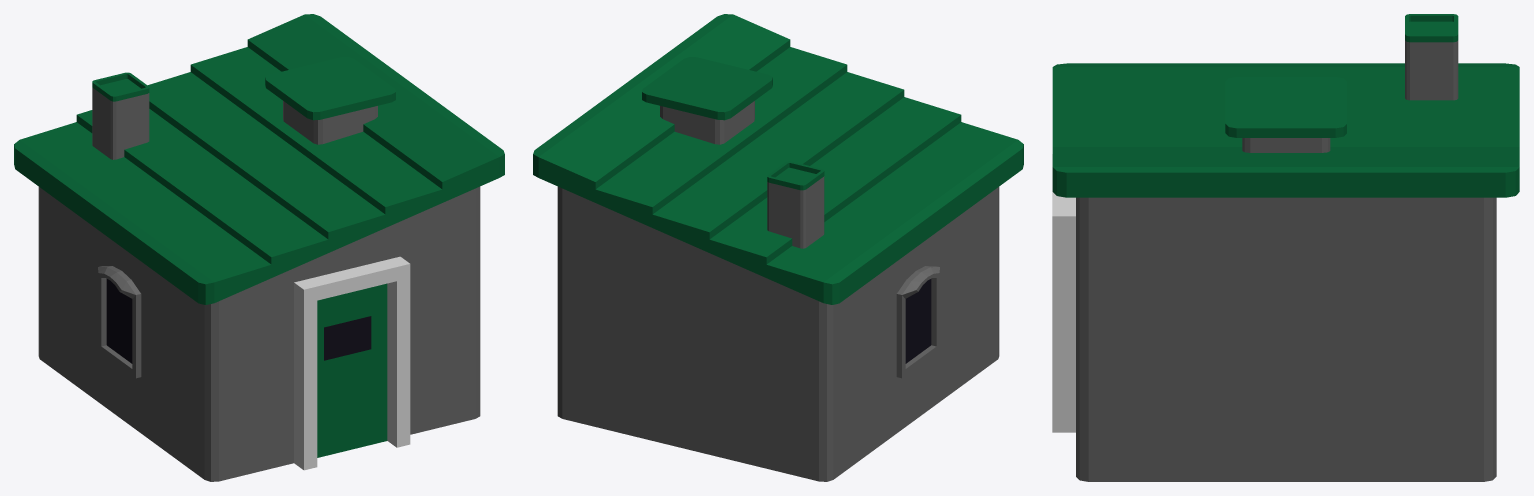
Rendered from Green_House.fbx.
3 renders of one model, left to right at view 1: azimuth 30°, elevation 25°; view 2: azimuth 150°, elevation 25°; view 3: azimuth 270°, elevation 25°, orthographic. The views are drawn at different scales.
Visible parts, largest first — view 1: House green.001; view 2: House green.001; view 3: House green.001.
Boxes of the visible parts, x1,y1,x2,y2 form: House green.001: (14, 14, 504, 481); House green.001: (533, 14, 1023, 481); House green.001: (1052, 14, 1519, 481).
Size of the model in its own units: 119 by 106 by 132.
